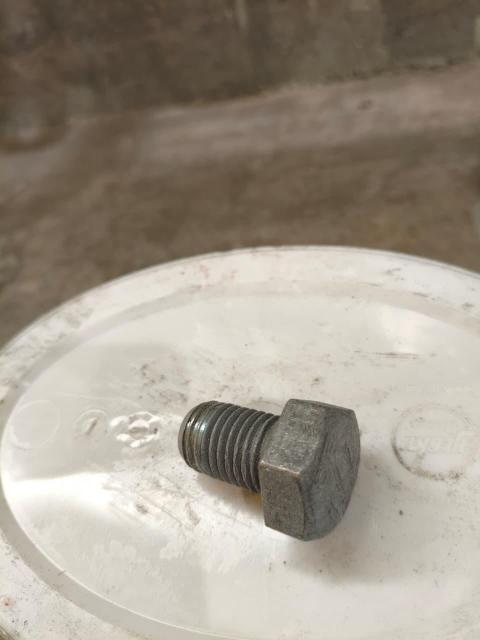Metal: (173, 392, 367, 535)
